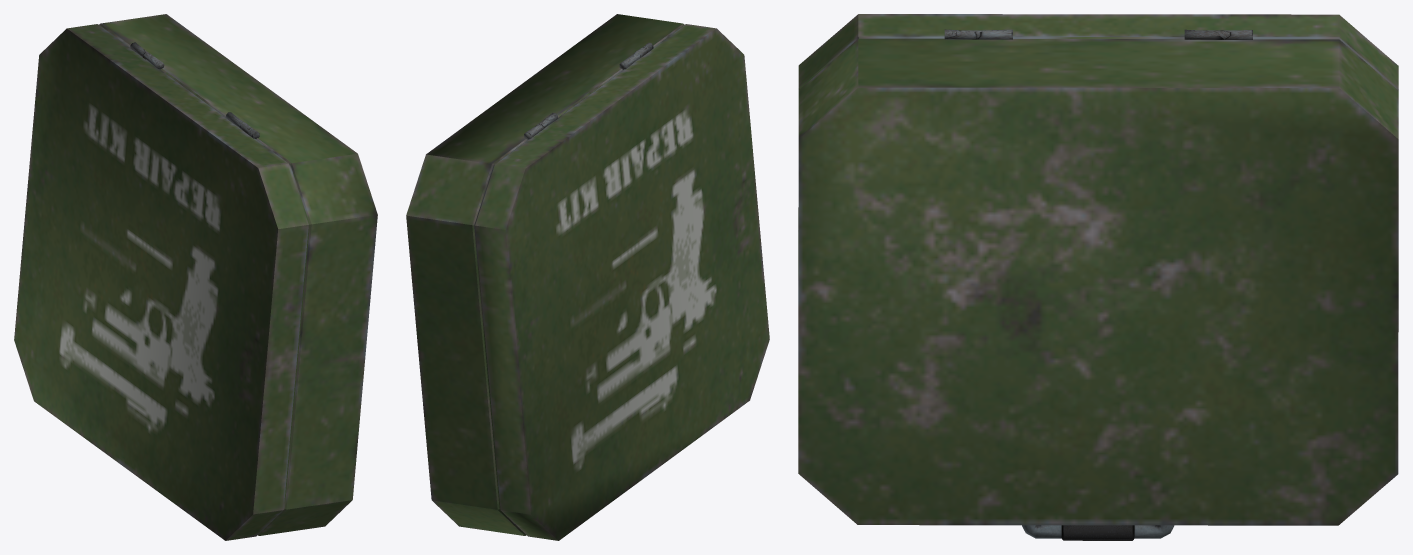
File: FirearmRepairKit_Bag.fbx
The picture shows the model from 3 angles, left to right: view 1: azimuth 30°, elevation 25°; view 2: azimuth 150°, elevation 25°; view 3: azimuth 270°, elevation 25°; orthographic projection. The views are drawn at different scales.
Visible parts, largest first — view 1: FirearmsRepairKit; view 2: FirearmsRepairKit; view 3: FirearmsRepairKit.
Boxes of the visible parts, left/top/right/bottom form: FirearmsRepairKit: left=14, top=14, right=377, bottom=540; FirearmsRepairKit: left=406, top=14, right=769, bottom=540; FirearmsRepairKit: left=798, top=14, right=1398, bottom=540.
Bounding box in the file's own units: 0.0603 × 0.1763 × 0.1881.
